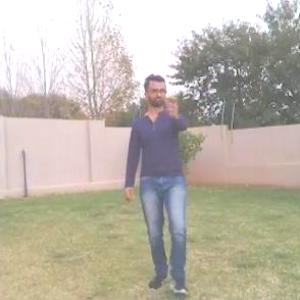takeoff-hand: (162, 87, 189, 121)
